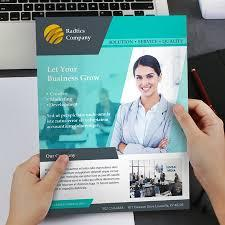Printing industry: (24, 13, 198, 225)
